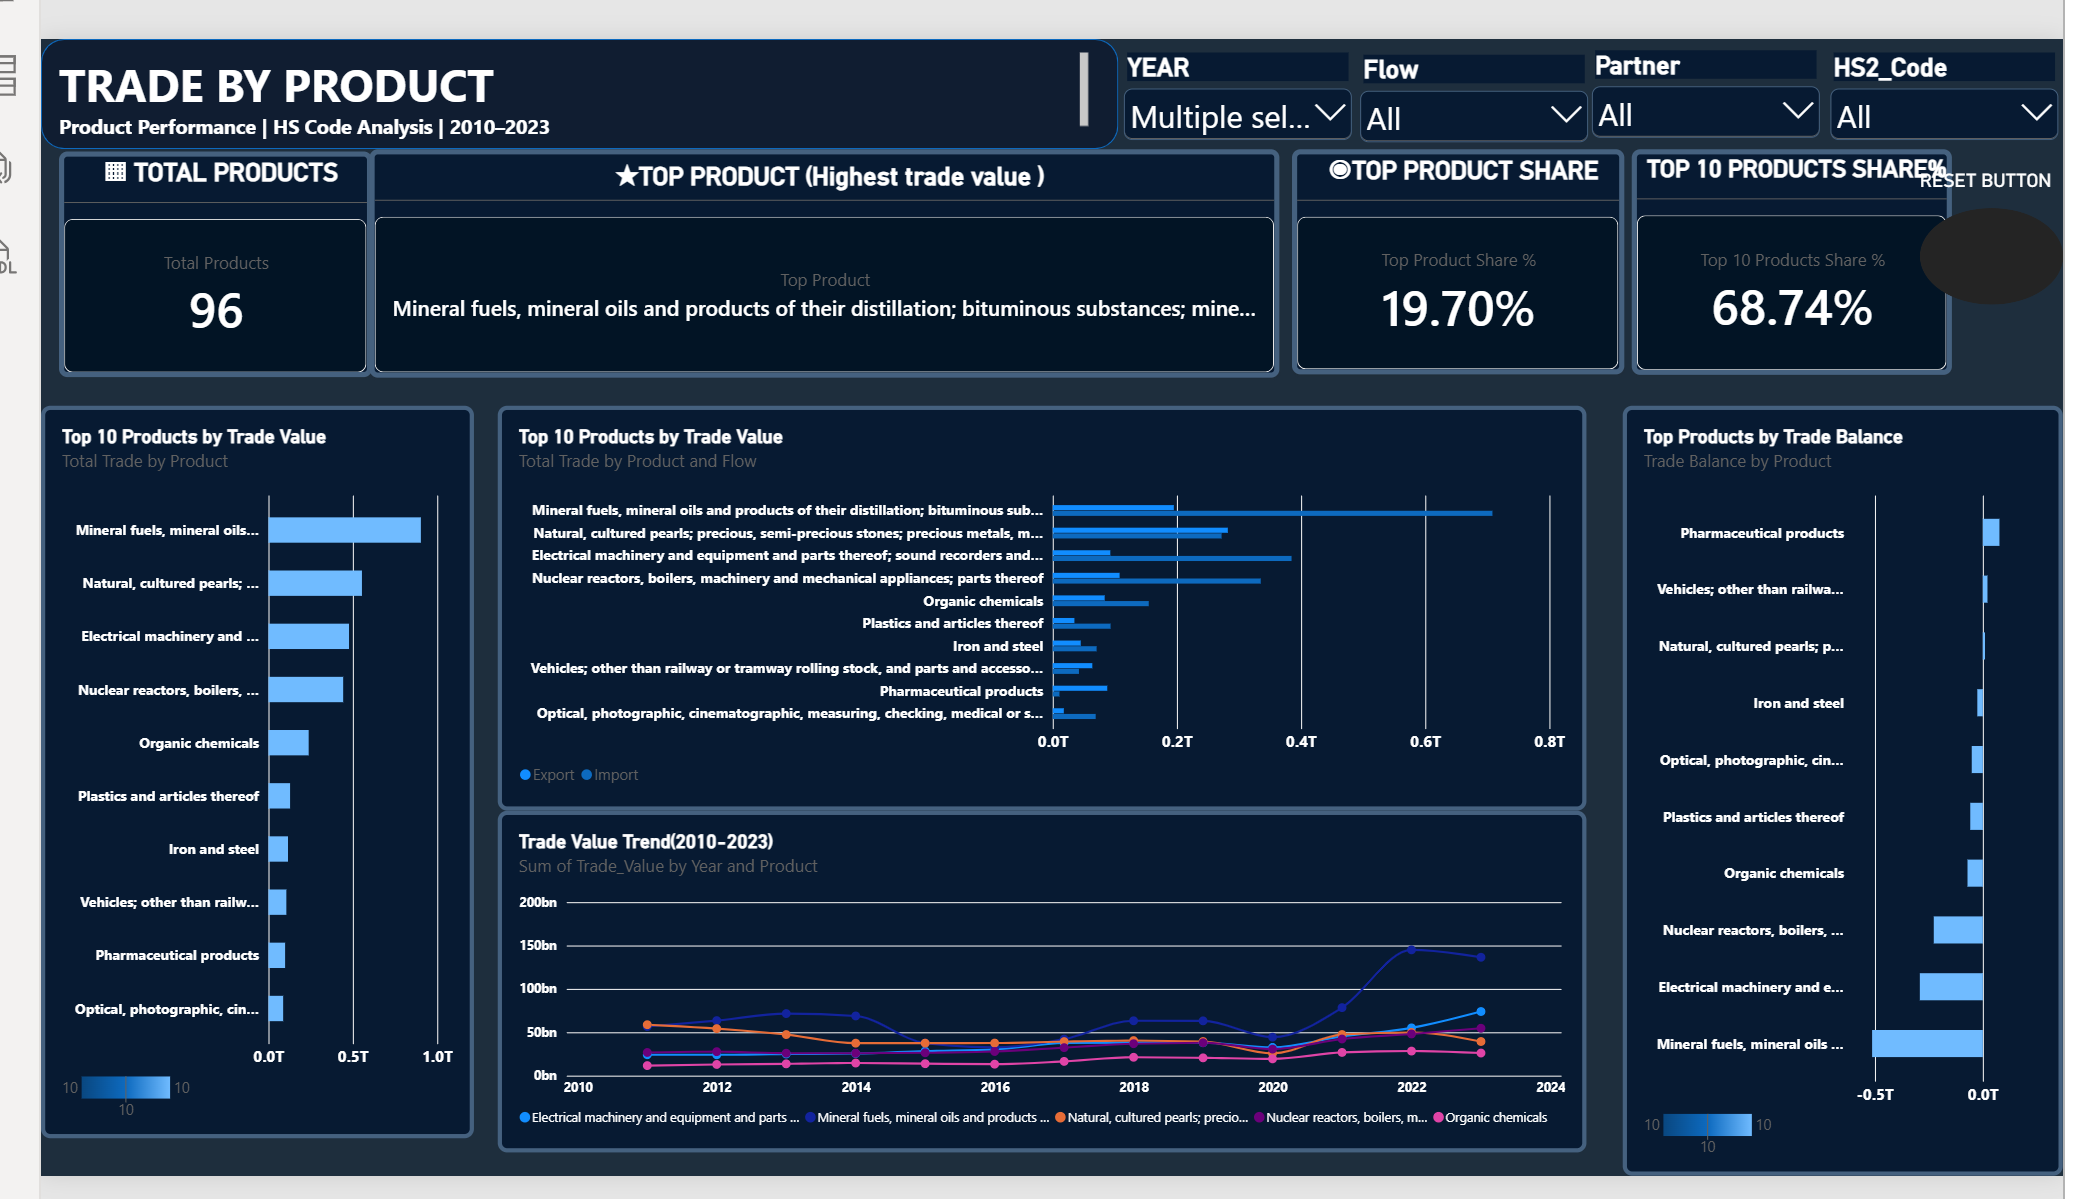

The dashboard page shown, as its layout file describes it:
{"tool":"powerbi","page":{"name":"Trade By product","canvas":[1920,1080],"ordinal":1},"visuals":[{"type":"cardVisual","title":"◉TOP PRODUCT SHARE","fields":{"Data":["Dim_Product.Top Product Share %"]},"box":[1294.1,108,287.4,214.3],"z":0},{"type":"cardVisual","title":"▦ TOTAL PRODUCTS","fields":{"Data":["Dim_Product.Total Products"]},"box":[16.6,106.3,297.4,214.3],"z":1000},{"type":"cardVisual","title":"★TOP PRODUCT (Highest trade value )","fields":{"Data":["Dim_Product.Top Product"]},"box":[314,103,966.8,217.6],"z":2000},{"type":"clusteredBarChart","title":"Top 10 Products by Trade Value","fields":{"Category":["Dim_Product.Product"],"Y":["Fact_Trade.Total Trade"]},"box":[0,349,411.2,695.7],"z":3000},{"type":"clusteredBarChart","title":"Top Products by Trade Balance","fields":{"Category":["Dim_Product.Product"],"Y":["Fact_Trade.Trade Balance"]},"box":[1502.6,349,417.9,731.3],"z":4000},{"type":"shape","box":[0,0,1023,104.6],"z":5000},{"type":"textbox","box":[17.1,13.3,977.3,91.3],"z":6000},{"type":"lineChart","title":"Trade Value Trend(2010-2023)","fields":{"Category":["DIm_Year.Year"],"Series":["Dim_Product.Product"],"Y":["Sum(Fact_Trade.Trade_Value)"]},"box":[433.5,733.5,1033.6,324.5],"z":7000},{"type":"clusteredBarChart","title":"Top 10 Products by Trade Value","fields":{"Category":["Dim_Product.Product"],"Series":["Dim_Flow.Flow"],"Y":["Fact_Trade.Total Trade"]},"box":[433.5,349,1033.6,384.5],"z":8000},{"type":"slicer","fields":{"Values":["DIm_Year.Year"]},"box":[1023,13.3,226.3,110.3],"z":9000},{"type":"slicer","fields":{"Values":["Dim_Product.HS2_Code"]},"box":[1694.2,13.3,226.3,93.8],"z":10000},{"type":"slicer","fields":{"Values":["Dim_Flow.Flow"]},"box":[1247.3,15.2,226.3,93.8],"z":11000},{"type":"slicer","fields":{"Values":["Dim_Partner.Partner"]},"box":[1467.9,11.4,226.3,93.8],"z":12000},{"type":"cardVisual","title":"TOP 10 PRODUCTS SHARE%","fields":{"Data":["Dim_Product.Top 10 Products Share %"]},"box":[1594.8,108,304,214.3],"z":13000}]}

Visuals, with their boxes in screenshot pixels (x1, y1, x2, y2), scaled from the page's 1920x1080 canvas onto the 2083x1199 screenshot:
"◉TOP PRODUCT SHARE" cardVisual: 1404,120,1716,358
"▦ TOTAL PRODUCTS" cardVisual: 18,118,341,356
"★TOP PRODUCT (Highest trade value )" cardVisual: 341,114,1390,356
"Top 10 Products by Trade Value" clusteredBarChart: 0,387,446,1160
"Top Products by Trade Balance" clusteredBarChart: 1630,387,2082,1198
shape: 0,0,1110,116
textbox: 19,15,1079,116
"Trade Value Trend(2010-2023)" lineChart: 470,814,1592,1175
"Top 10 Products by Trade Value" clusteredBarChart: 470,387,1592,814
slicer - DIm_Year.Year: 1110,15,1355,137
slicer - Dim_Product.HS2_Code: 1838,15,2082,119
slicer - Dim_Flow.Flow: 1353,17,1599,121
slicer - Dim_Partner.Partner: 1593,13,1838,117
"TOP 10 PRODUCTS SHARE%" cardVisual: 1730,120,2060,358
